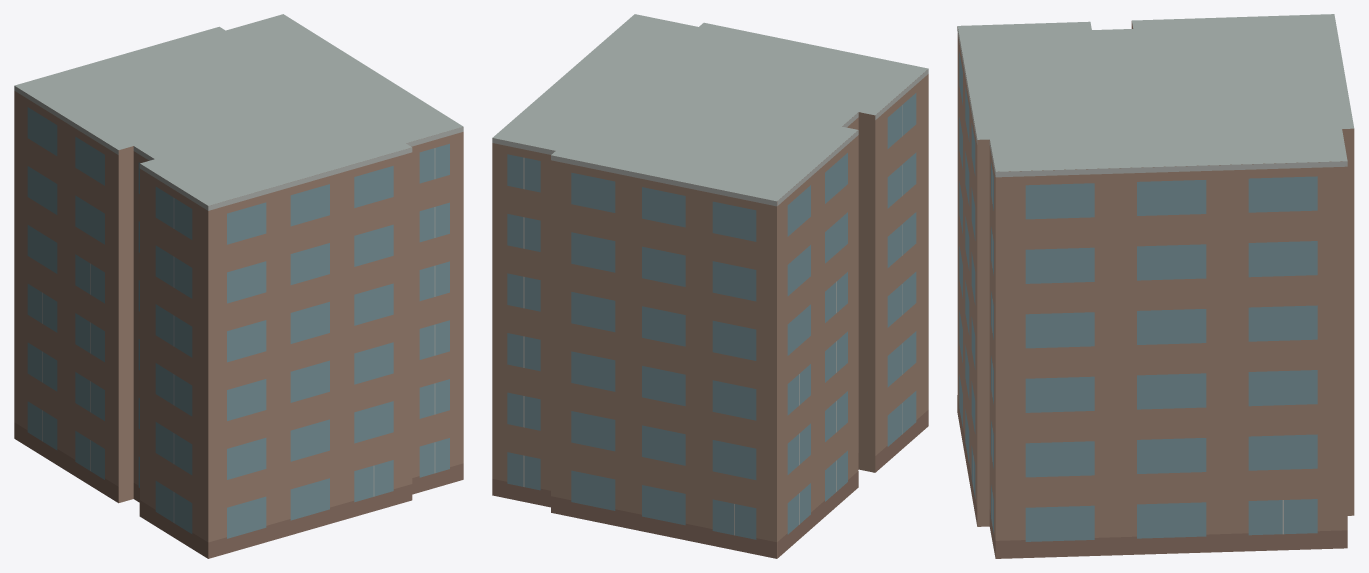
Rendered from survey-upis-32927285.glb.
The picture shows the model from 3 angles, left to right: view 1: azimuth 30°, elevation 25°; view 2: azimuth 150°, elevation 25°; view 3: azimuth 270°, elevation 25°; orthographic projection. The views are drawn at different scales.
Parts seen in each view (by area): view 1: survey-upis-32927285.tmp; view 2: survey-upis-32927285.tmp; view 3: survey-upis-32927285.tmp.
Boxes of the visible parts, x1,y1,x2,y2 form: survey-upis-32927285.tmp: (14,14,463,558); survey-upis-32927285.tmp: (492,14,928,558); survey-upis-32927285.tmp: (957,14,1354,558).
Bounding box in the file's own units: 15.05 × 17.2 × 15.99.
